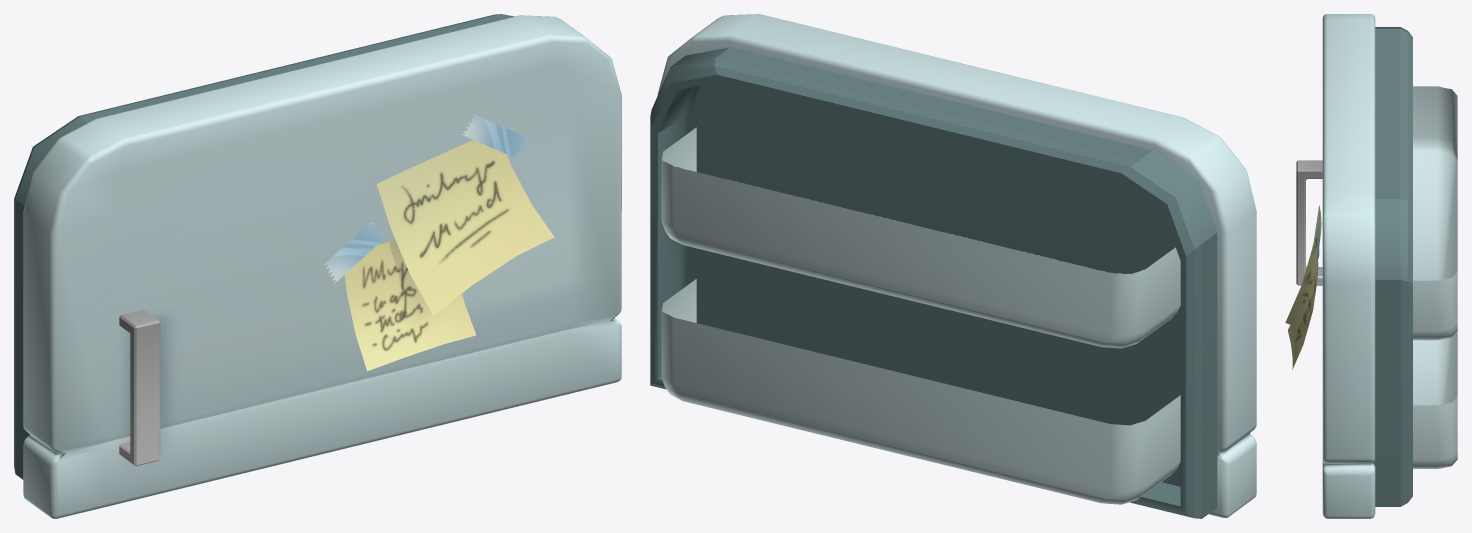
File: FridgeTopDoor.fbx
3 renders of one model, left to right at view 1: azimuth 30°, elevation 25°; view 2: azimuth 150°, elevation 25°; view 3: azimuth 270°, elevation 25°, orthographic. The views are drawn at different scales.
Parts seen in each view (by area): view 1: FridgeTopDoor; view 2: FridgeTopDoor; view 3: FridgeTopDoor.
Boxes of the visible parts, x1,y1,x2,y2 form: FridgeTopDoor: (14, 14, 621, 518); FridgeTopDoor: (650, 14, 1256, 518); FridgeTopDoor: (1285, 14, 1457, 518).
Bounding box in the file's own units: 104 × 63.42 × 32.96.
